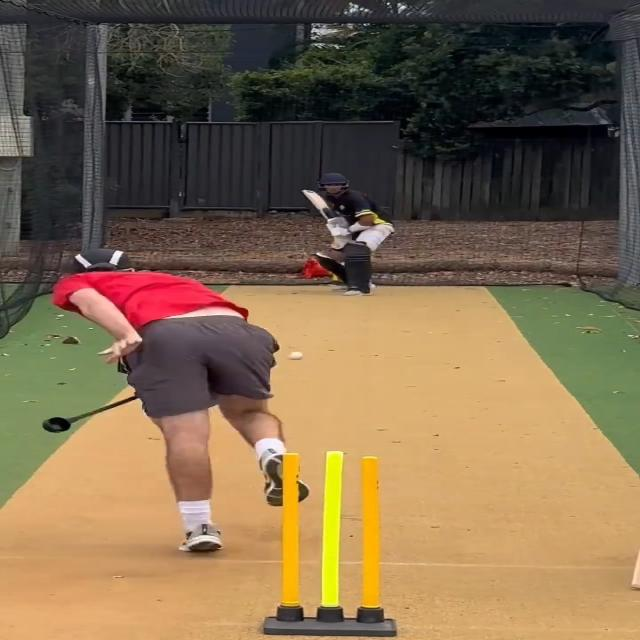ball: (287, 350, 306, 361)
stump: (266, 451, 396, 640)
